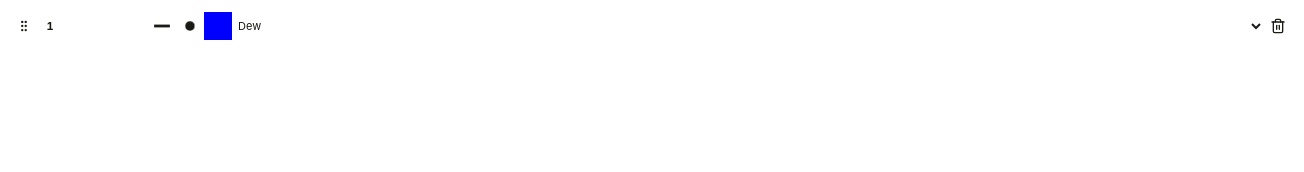
Test: SeriesConfigUI axis controls › lists used axes with their title and swatches, plus New axis
Click the button named "Select Y-Axis" at (50, 26), box [36,12,64,40]
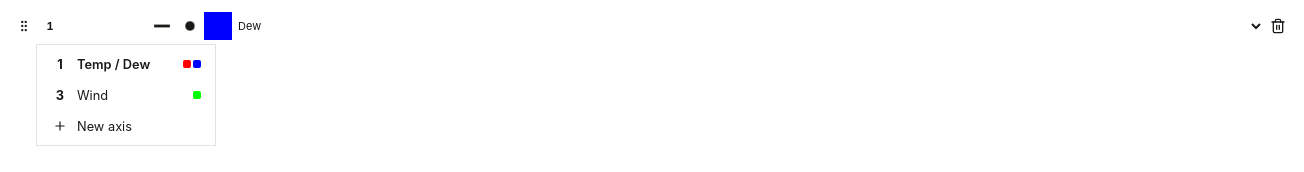
Now the buttons read "1Temp / Dew", "3Wind", "New axis", in this order, box [41,49,211,79]; [41,80,211,110]; [41,111,211,141]
